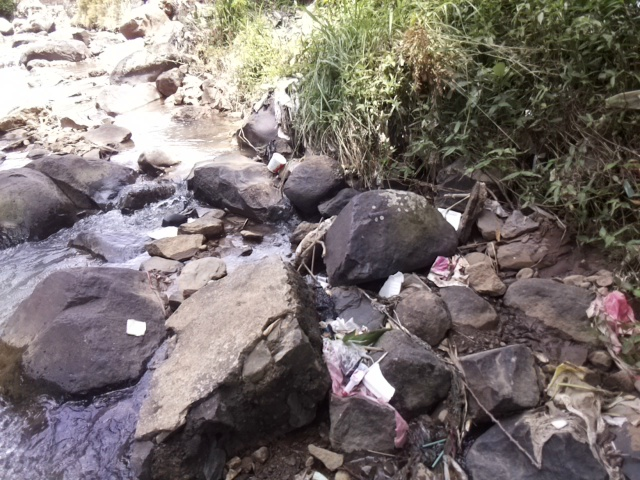Sampah_Plastik: (321, 325, 415, 438), (586, 287, 640, 340), (427, 250, 471, 291)
Sampah_Styrofoam: (376, 268, 406, 301), (265, 150, 290, 177), (439, 205, 462, 232), (126, 315, 148, 338)
